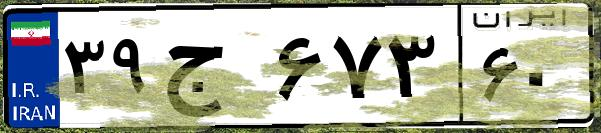0: (525, 38, 570, 115)
3: (385, 28, 445, 110), (57, 26, 110, 100)
6: (270, 28, 330, 110), (475, 38, 525, 113)
7: (330, 28, 385, 110)
9: (110, 28, 158, 98)
ج: (158, 20, 270, 120)
